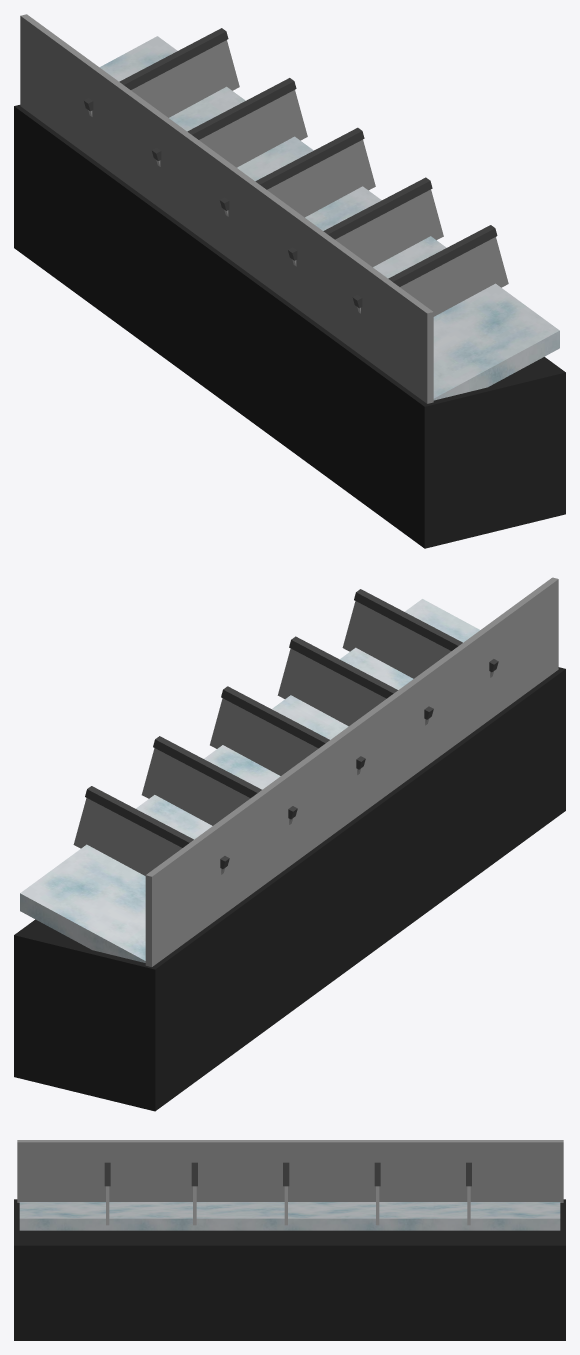
The model's file is huojia6.FBX.
3 renders of one model, top to bottom at view 1: azimuth 30°, elevation 25°; view 2: azimuth 150°, elevation 25°; view 3: azimuth 270°, elevation 25°, orthographic. The views are drawn at different scales.
Parts seen in each view (by area): view 1: huojia10; view 2: huojia10; view 3: huojia10.
Part boxes in pixels (<box>): huojia10: <box>14,14,565,548</box>; huojia10: <box>14,577,565,1111</box>; huojia10: <box>14,1140,565,1340</box>.
Size of the model in its own units: 132 by 196 by 614.
